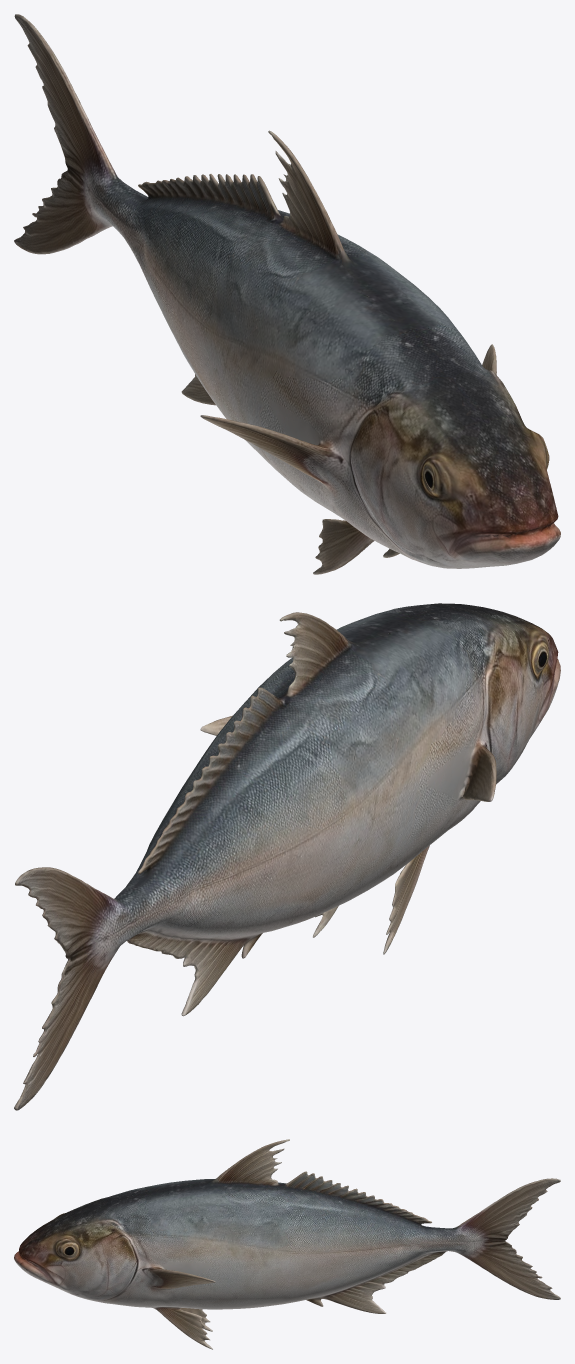
Rendered from fish-amberjack-v2.glb.
3 renders of one model, top to bottom at view 1: azimuth 30°, elevation 25°; view 2: azimuth 150°, elevation 25°; view 3: azimuth 270°, elevation 25°, orthographic. The views are drawn at different scales.
Bounding box in the file's own units: 0.6102 × 0.7664 × 1.9.
Materials: 1 (1 with a texture image).
